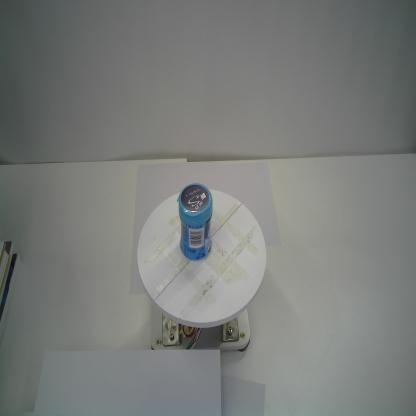Gum: (176, 182, 214, 262)
